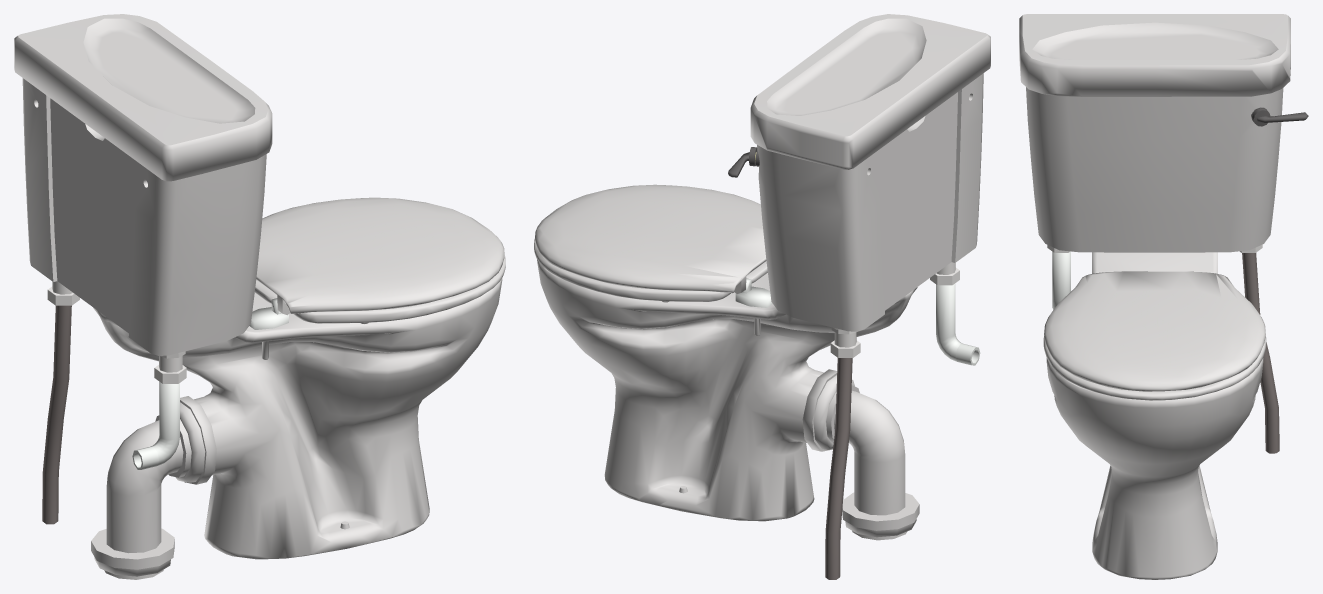
The model's file is qualitas_toilet.glb.
3 views of the same model, side by side, from view 1: azimuth 30°, elevation 25°; view 2: azimuth 150°, elevation 25°; view 3: azimuth 270°, elevation 25° (orthographic). The views are drawn at different scales.
Visible parts, largest first — view 1: Cylinder.010_Material.001_0; view 2: Cylinder.010_Material.001_0; view 3: Cylinder.010_Material.001_0.
Part boxes in pixels (x1=…): Cylinder.010_Material.001_0: x1=14, y1=14, x2=505, y2=579; Cylinder.010_Material.001_0: x1=534, y1=14, x2=990, y2=579; Cylinder.010_Material.001_0: x1=1019, y1=14, x2=1308, y2=579.
Size of the model in its own units: 67.91 by 78.05 by 48.01.
1 material, 1 textured.
